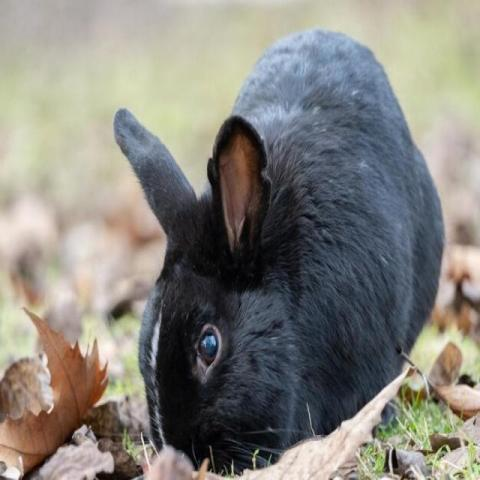small_animal: (110, 26, 448, 476)
